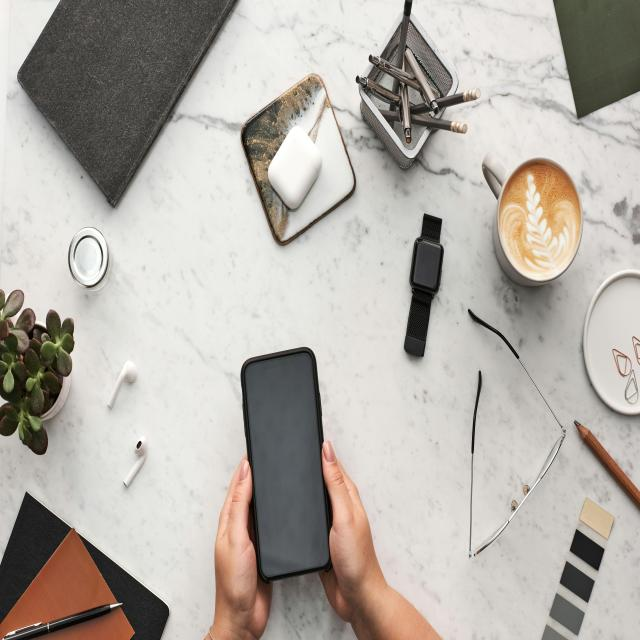Mobile: (229, 332, 348, 593)
